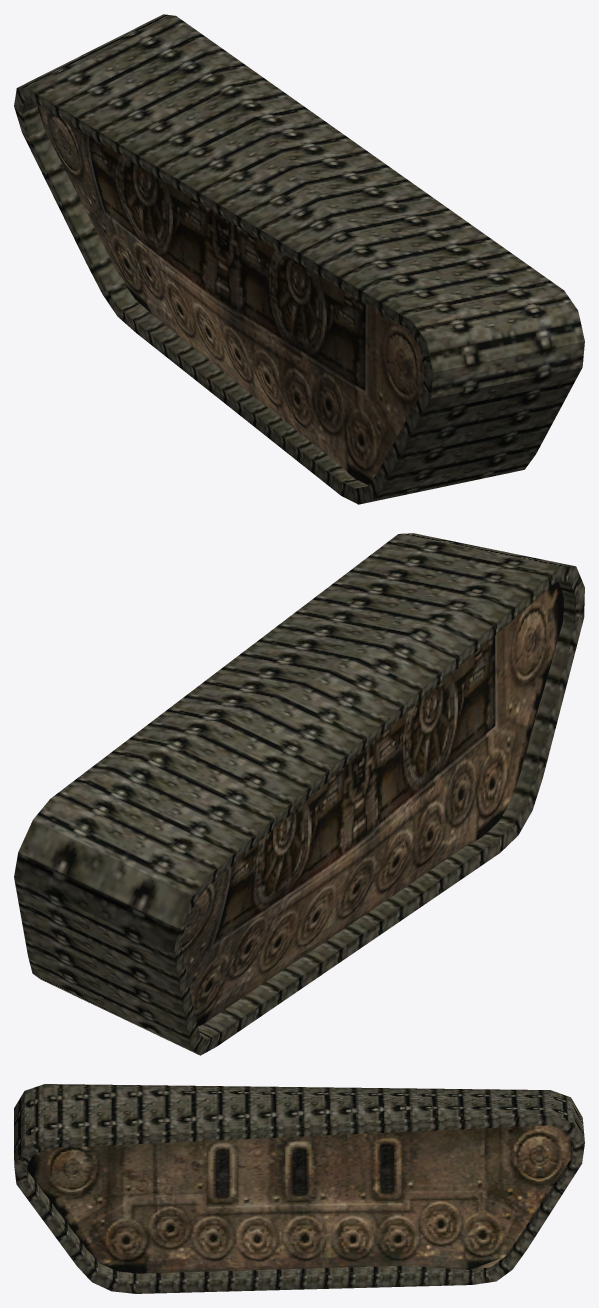
The model's file is poi_all_sandcrawler_debris_02_l0.fbx.
3 views of the same model, one above another, from view 1: azimuth 30°, elevation 25°; view 2: azimuth 150°, elevation 25°; view 3: azimuth 270°, elevation 25° (orthographic). The views are drawn at different scales.
Visible parts, largest first — view 1: mesh_node; view 2: mesh_node; view 3: mesh_node.
Part boxes in pixels (left/top/right/bottom): mesh_node: left=14, top=14, right=584, bottom=504; mesh_node: left=14, top=533, right=584, bottom=1055; mesh_node: left=14, top=1084, right=584, bottom=1293.
Bounding box in the file's own units: 3.41 × 4.13 × 12.
